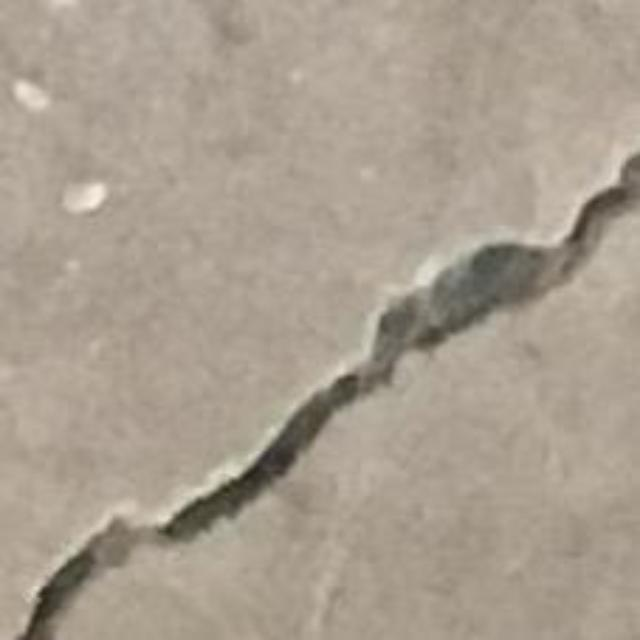crack: (15, 156, 639, 639)
